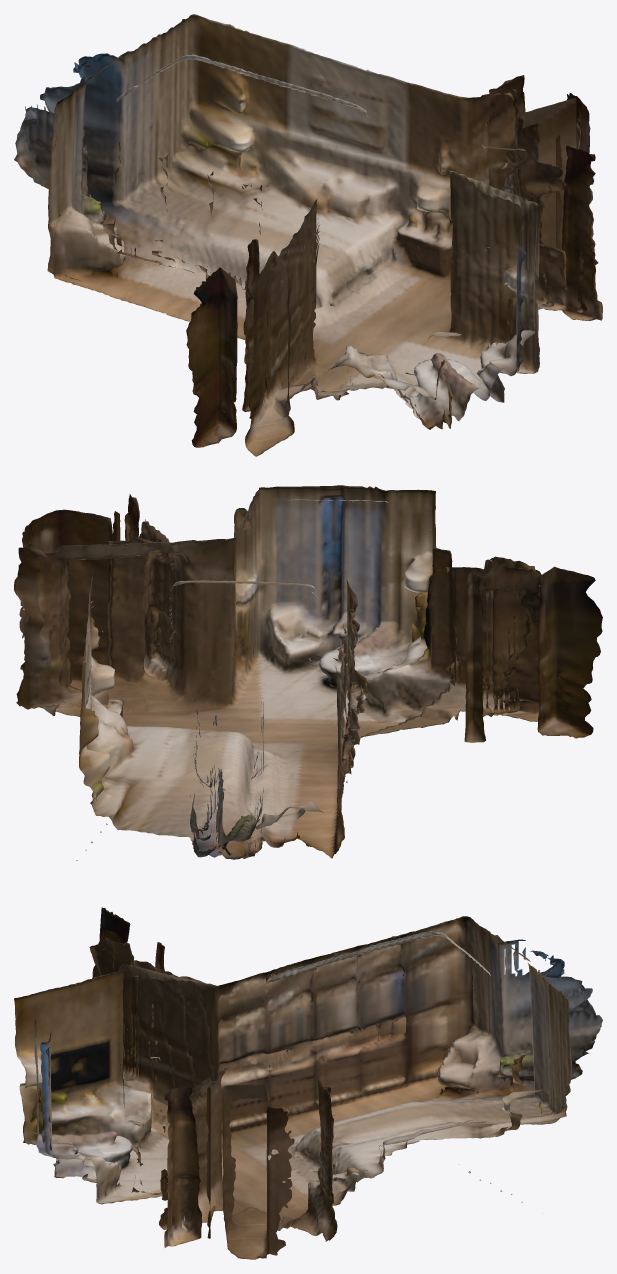
The model's file is Luxury guest suite, evening ambiance_collider.glb.
The picture shows the model from 3 angles, top to bottom: view 1: azimuth 30°, elevation 25°; view 2: azimuth 150°, elevation 25°; view 3: azimuth 270°, elevation 25°; orthographic projection. The views are drawn at different scales.
Visible parts, largest first — view 1: world; view 2: world; view 3: world.
Part boxes in pixels (x1,y1,x2,y2): world: (14, 14, 602, 456); world: (14, 485, 602, 860); world: (14, 907, 602, 1259).
Size of the model in its own units: 8.69 by 3.86 by 10.1.
